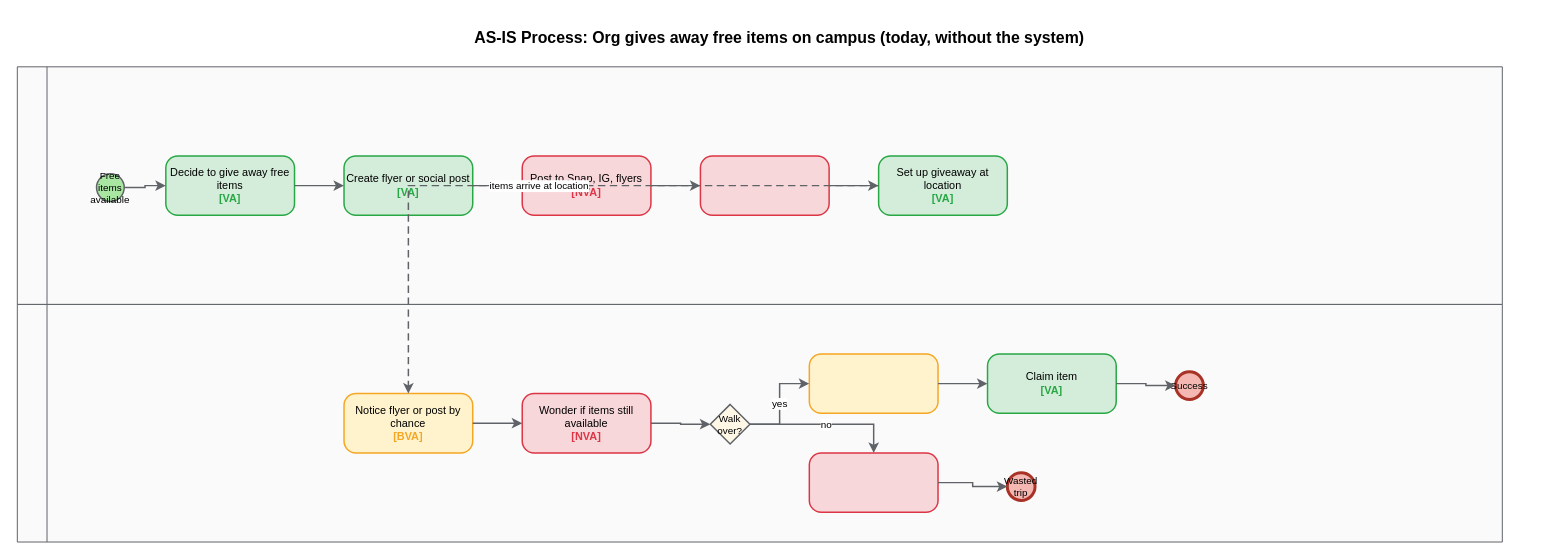
Some shapes in this 1559 by 559 pixel diagram are drawn without their labels. Here are the shapes that lost their labels. From the top down, the box of each, then its label:
(16, 66, 1502, 304): Student Org Rep
(699, 155, 829, 216): Physically distribute flyers [NVA]
(808, 353, 938, 414): Walk to location [BVA]
(16, 303, 1502, 542): Student
(808, 452, 938, 513): Find items already gone [NVA]
